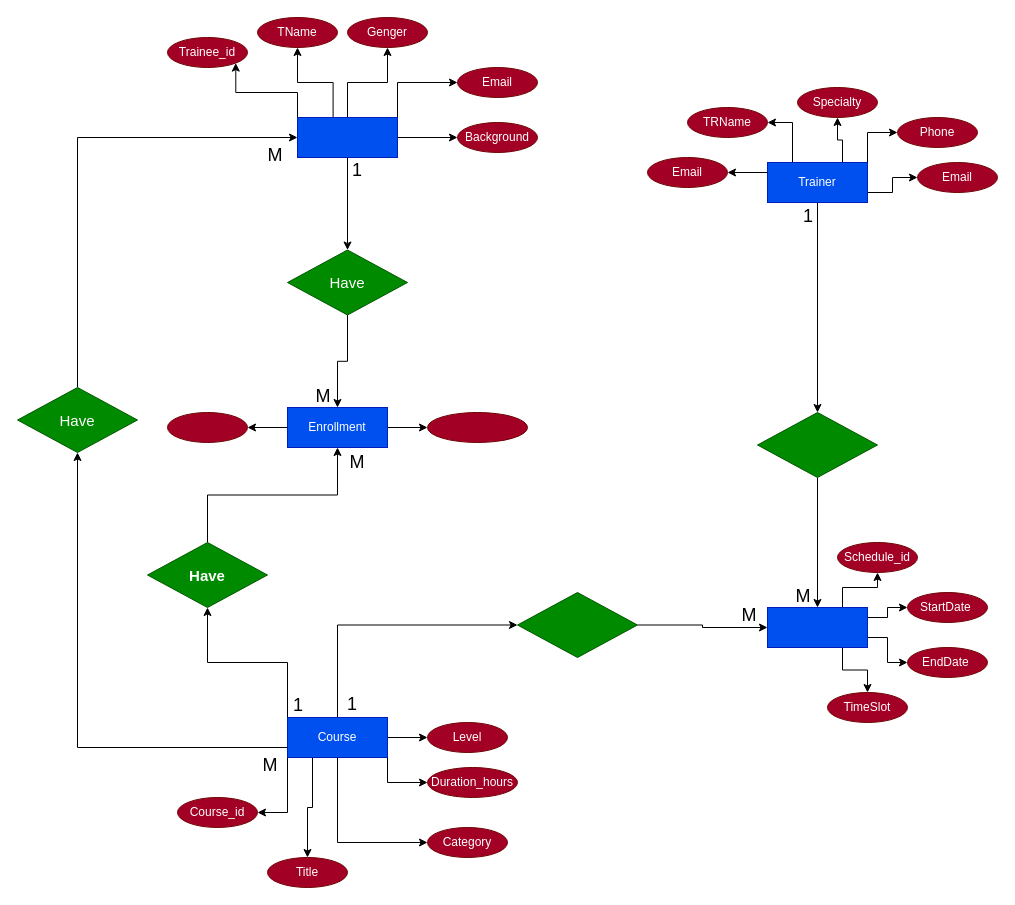
Some shapes in this 1015 by 905 pixel diagram are drawn without their labels. Each missing label, with the centre of its shape:
Conducted_by: [817,445]
Enrollment_data: [477,427]
Enrollment_id: [207,427]
Includes: [577,625]
Schedule: [817,627]
Trainee: [347,137]
